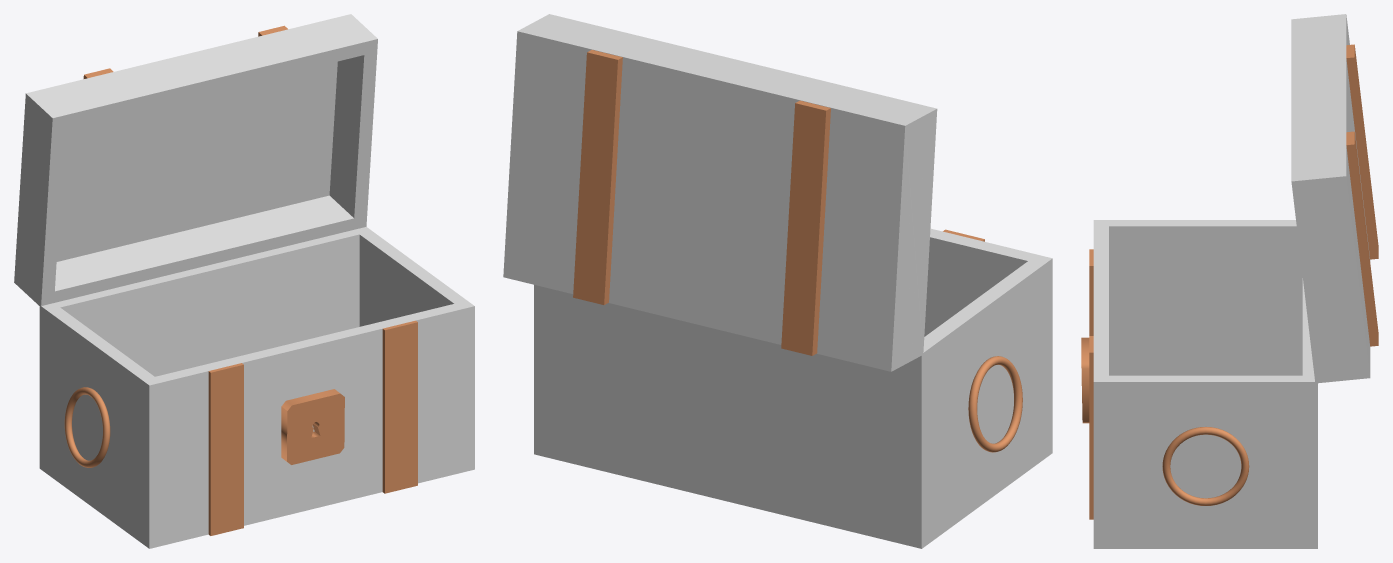
File: chest delivery.fbx
3 renders of one model, left to right at view 1: azimuth 30°, elevation 25°; view 2: azimuth 150°, elevation 25°; view 3: azimuth 270°, elevation 25°, orthographic. The views are drawn at different scales.
Visible parts, largest first — view 1: chest; view 2: chest; view 3: chest.
Part boxes in pixels (bbox=[...]): chest: bbox=[14, 14, 474, 548]; chest: bbox=[503, 14, 1052, 548]; chest: bbox=[1081, 14, 1378, 548].
Size of the model in its own units: 267 by 268 by 193.
